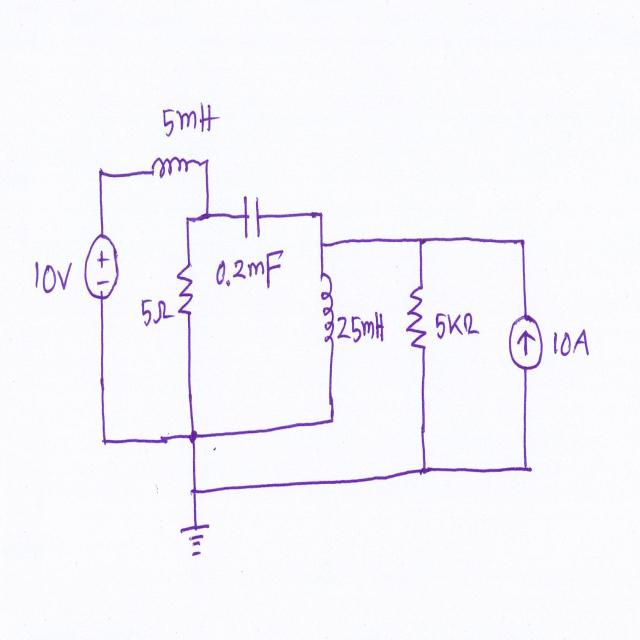capacitor: (240, 186, 262, 243)
current_source: (506, 312, 546, 382)
ground: (180, 516, 210, 570)
inductor: (315, 268, 339, 349), (144, 150, 192, 184)
resistor: (403, 280, 428, 356), (173, 260, 196, 332)
voltage_source: (82, 230, 121, 308)
